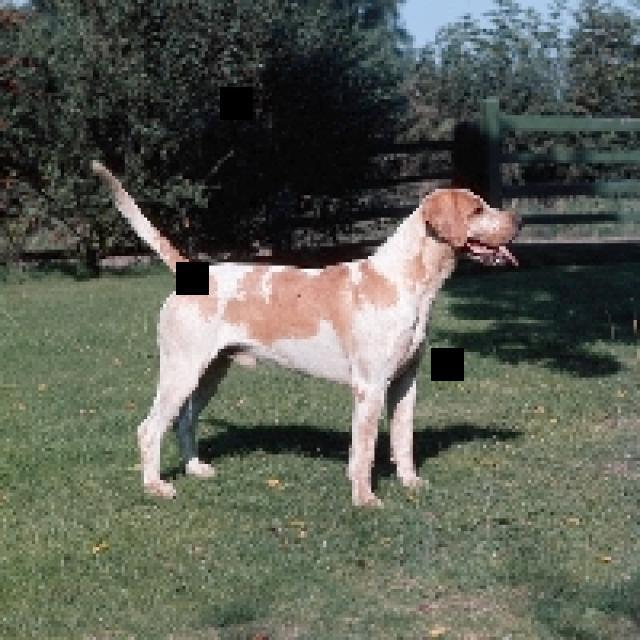adult_dog: (89, 157, 521, 508)
